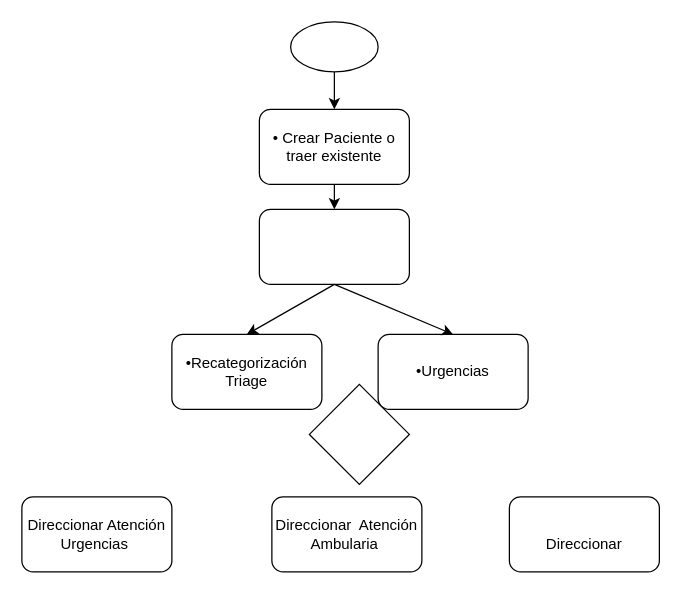
This 681x594 diagram has some shape labels left out. The centre of each missing label's shape, as x and y in pixels:
"INICIO" goes at (333,46).
"•Diligenciar Triage" goes at (333,246).
